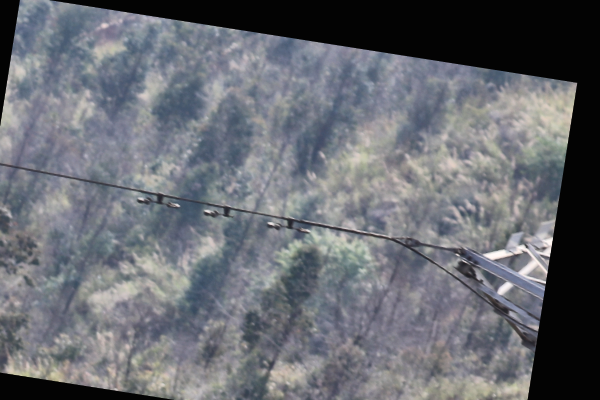damper: (133, 190, 182, 210), (265, 216, 311, 235)
damper_defect: (199, 203, 235, 219)
